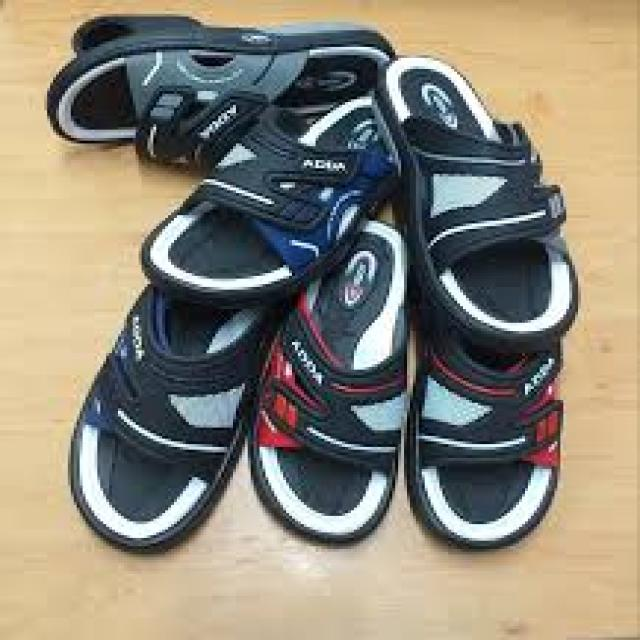shoe: (37, 11, 578, 571), (368, 39, 601, 335), (131, 87, 394, 296), (246, 213, 407, 539), (59, 287, 233, 548), (48, 25, 394, 150), (410, 336, 572, 550)
